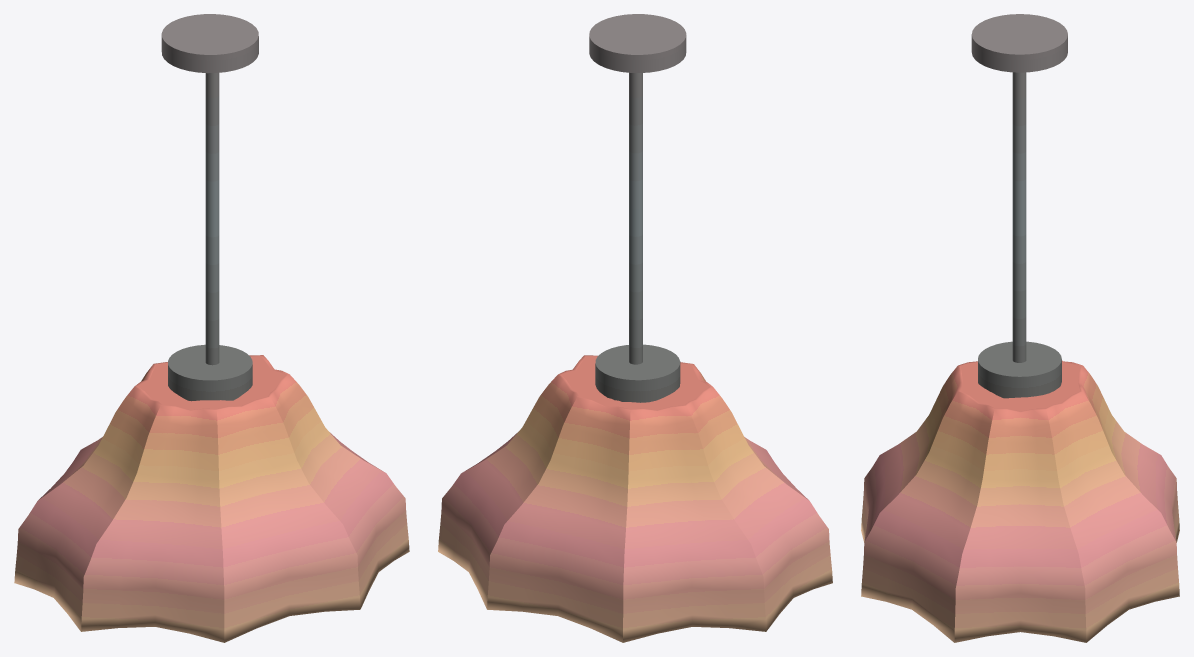
The model's file is lamp1.fbx.
3 views of the same model, side by side, from view 1: azimuth 30°, elevation 25°; view 2: azimuth 150°, elevation 25°; view 3: azimuth 270°, elevation 25° (orthographic).
Visible parts, largest first — view 1: lamp1; view 2: lamp1; view 3: lamp1.
Part boxes in pixels (x1,y1,x2,y2): lamp1: (14,14,409,642); lamp1: (438,14,832,642); lamp1: (861,14,1179,642).
Size of the model in its own units: 95.74 by 149 by 81.28.
